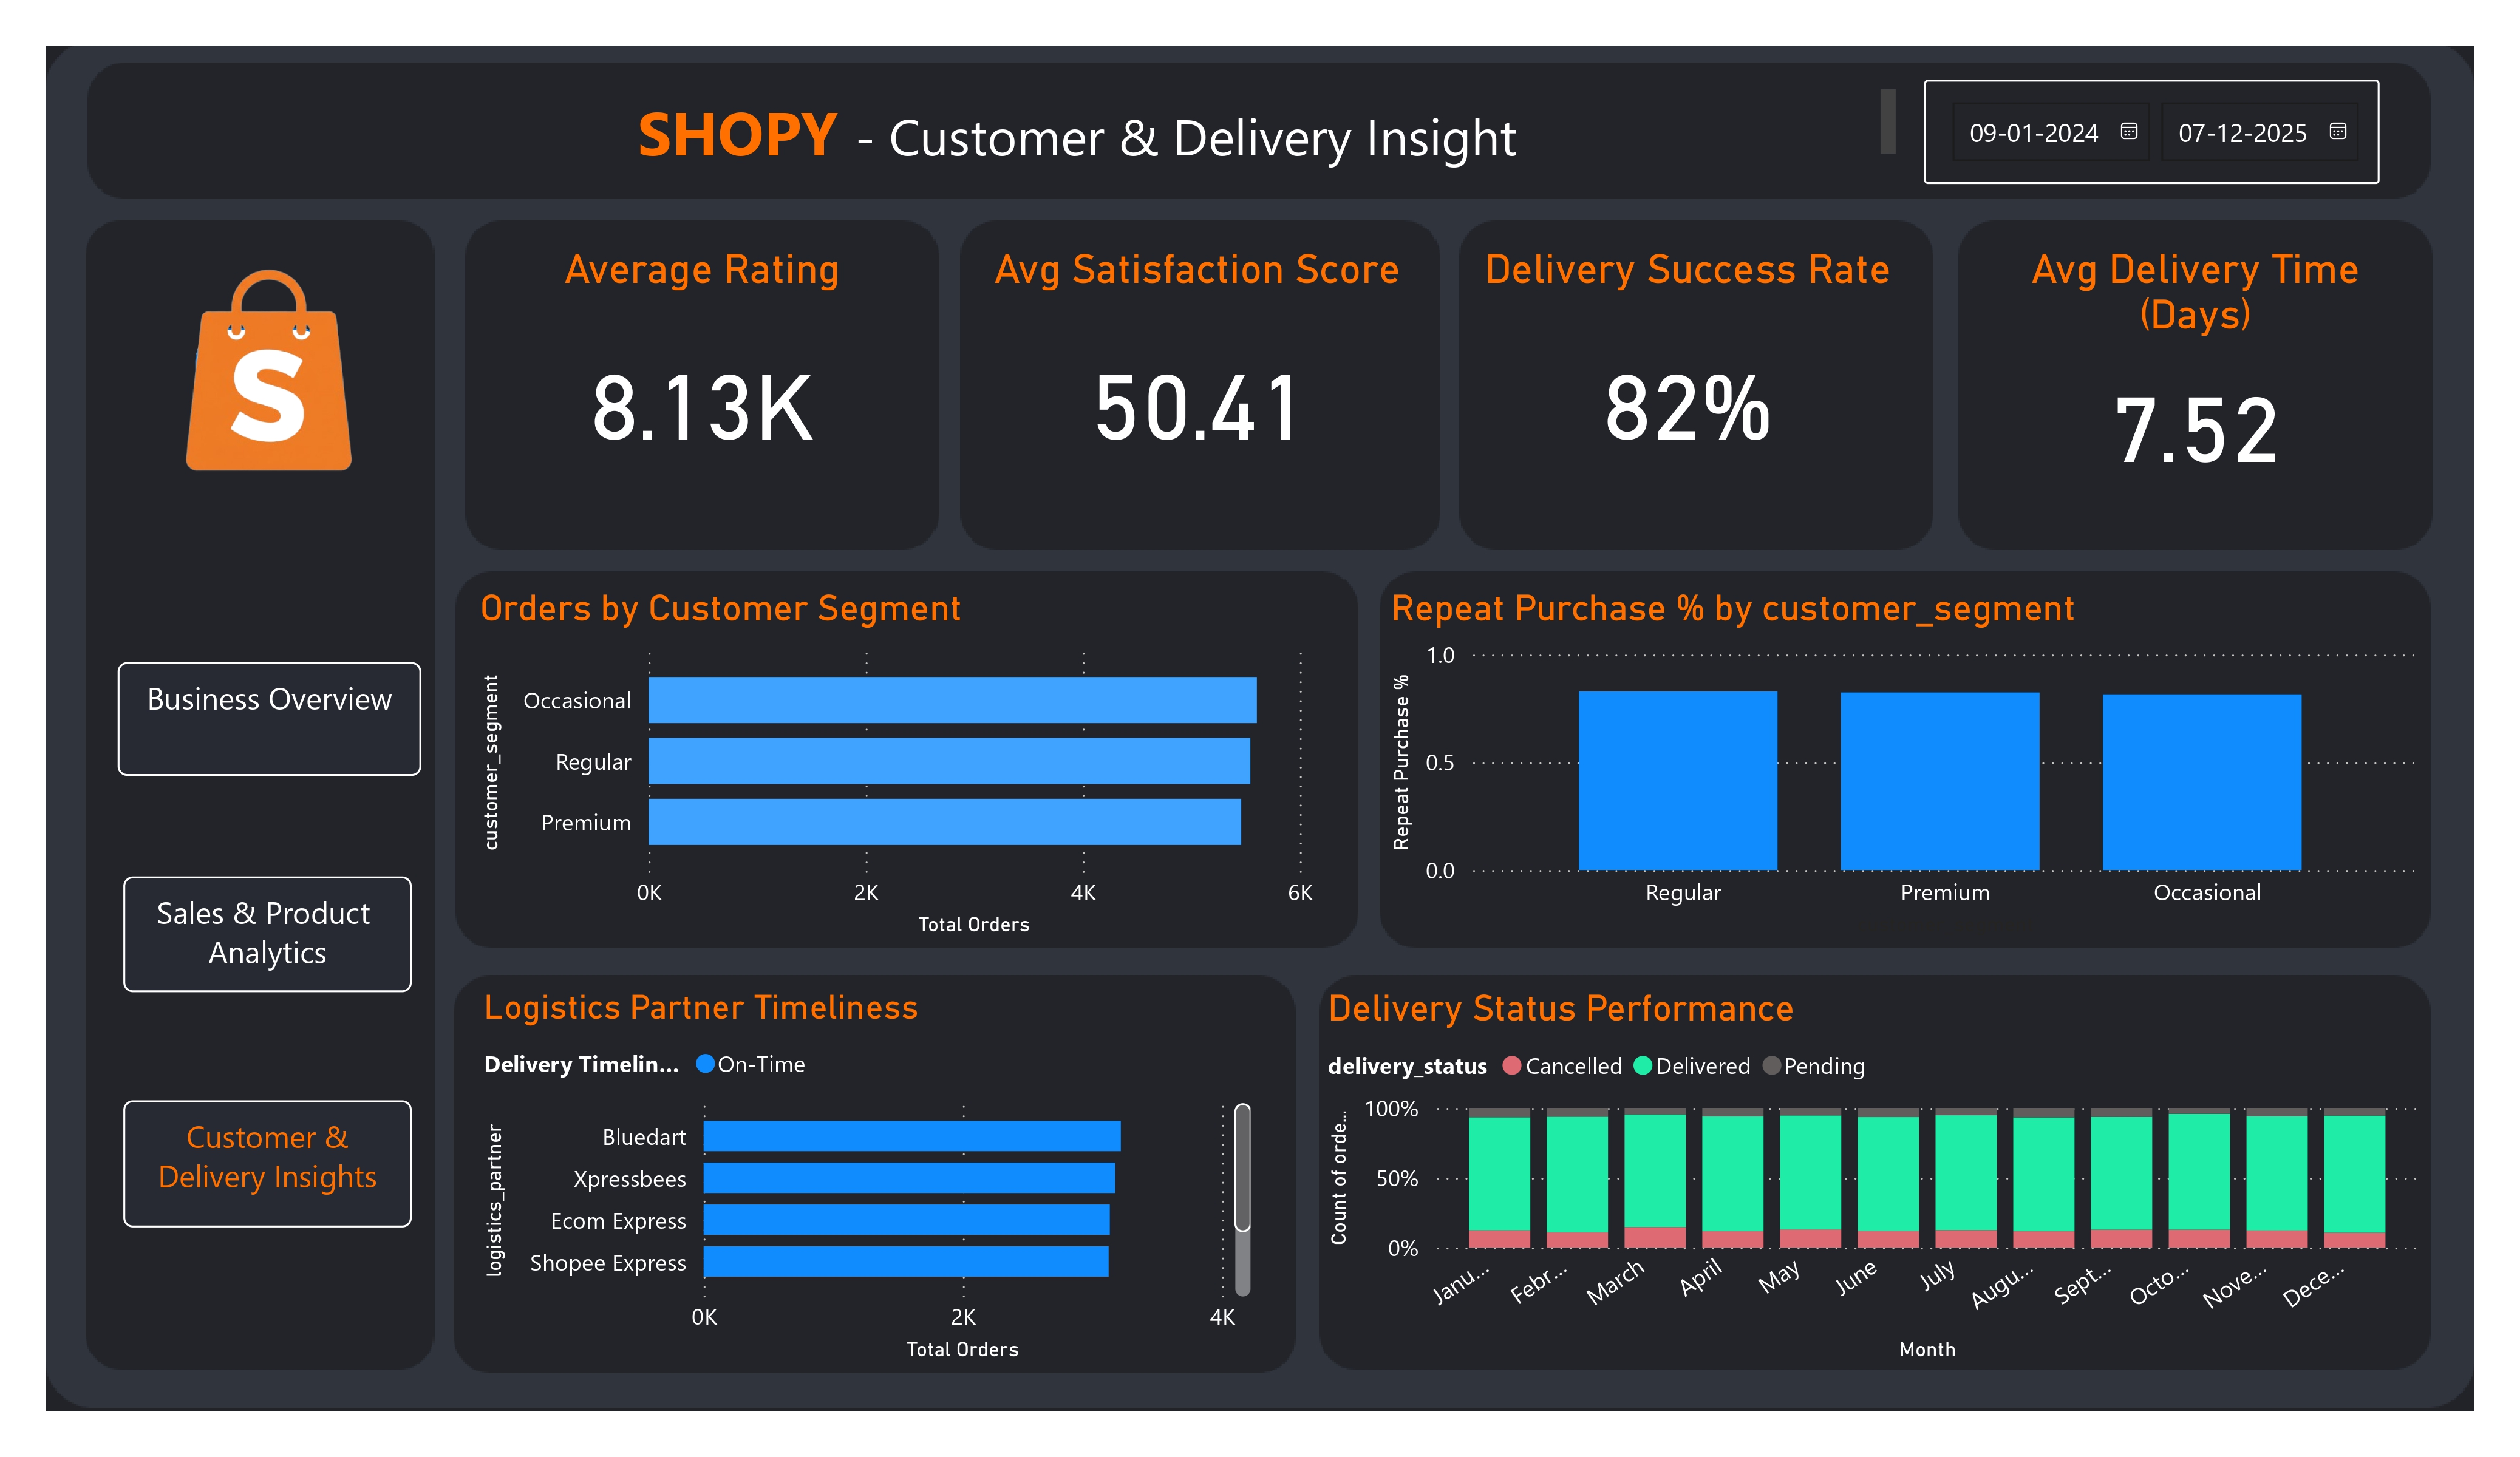

The dashboard page shown, as its layout file describes it:
{"tool":"powerbi","page":{"name":"Customer & Delivery Insights","canvas":[1280,720],"ordinal":2},"visuals":[{"type":"clusteredBarChart","title":"Orders by Customer Segment","fields":{"Category":["Shopy_Master_Cleaned_Cleaned_Final.customer_segment"],"Y":["Shopy_Master_Cleaned_Cleaned_Final.Total Orders"]},"box":[223.8,285,448.8,188.8],"z":0},{"type":"hundredPercentStackedColumnChart","title":"Delivery Status Performance","fields":{"Category":["Shopy_Master_Cleaned_Cleaned_Final.order_date.Variation.Date Hierarchy.Month"],"Y":["CountNonNull(Shopy_Master_Cleaned_Cleaned_Final.order_id)"],"Series":["Shopy_Master_Cleaned_Cleaned_Final.delivery_status"]},"box":[671.2,496.2,583.8,201.2],"z":1000},{"type":"clusteredBarChart","title":"Logistics Partner Timeliness","fields":{"Category":["Shopy_Master_Cleaned_Cleaned_Final.logistics_partner"],"Y":["Shopy_Master_Cleaned_Cleaned_Final.Total Orders"],"Series":["Shopy_Master_Cleaned_Cleaned_Final.Delivery Timeliness"]},"box":[226.2,496.2,413.8,201.2],"z":2000},{"type":"clusteredColumnChart","fields":{"Category":["Shopy_Master_Cleaned_Cleaned_Final.customer_segment"],"Y":["Shopy_Master_Cleaned_Cleaned_Final.Repeat Purchase %"]},"box":[703.8,285,551.2,188.8],"z":3000},{"type":"card","title":"Delivery Success Rate","fields":{"Values":["Shopy_Master_Cleaned_Cleaned_Final.Delivery Success %"]},"box":[741.2,105,248.8,136.2],"z":4000},{"type":"card","title":"Avg Satisfaction Score","fields":{"Values":["Shopy_Master_Cleaned_Cleaned_Final.Avg Satisfaction Score"]},"box":[482.5,105,248.8,136.2],"z":5000},{"type":"card","title":"Average Rating","fields":{"Values":["Shopy_Master_Cleaned_Cleaned_Final.Average Order Value"]},"box":[223.8,105,243.8,136.2],"z":6000},{"type":"card","title":"Avg Delivery Time (Days)","fields":{"Values":["Shopy_Master_Cleaned_Cleaned_Final.Avg Delivery Time"]},"box":[1011.2,105,243.8,136.2],"z":7000},{"type":"textbox","box":[36.2,17.5,943.8,55],"z":8000},{"type":"shape","box":[78.8,148.8,72.5,70],"z":9000},{"type":"slicer","title":"Date Range","fields":{"Values":["Shopy_Master_Cleaned_Cleaned_Final.order_date"]},"box":[990,17.5,240,55],"z":10000},{"type":"image","box":[53.8,106.2,136.2,135],"z":11000},{"type":"textbox","box":[41.2,437.5,151.2,61.2],"z":12000},{"type":"textbox","box":[41.2,556.2,151.2,66.2],"z":13000},{"type":"textbox","box":[38,325,159.8,71.7],"z":14000},{"type":"actionButton","box":[41.3,438,151.1,60.9],"z":15000},{"type":"actionButton","box":[36,324.4,161.6,72.1],"z":15001},{"type":"actionButton","box":[40.7,555.8,151.2,66.3],"z":15002}]}

Visuals, with their boxes on the page's 1280x720 design canvas (x1, y1, x2, y2). These are canvas units, not pixel positions in the 2520x1457 screenshot, which may show the page scaled, cropped or inside an application window:
"Orders by Customer Segment" clusteredBarChart: bbox(224, 285, 673, 474)
"Delivery Status Performance" hundredPercentStackedColumnChart: bbox(671, 496, 1255, 697)
"Logistics Partner Timeliness" clusteredBarChart: bbox(226, 496, 640, 697)
clusteredColumnChart - Shopy_Master_Cleaned_Cleaned_Final.customer_segment x Shopy_Master_Cleaned_Cleaned_Final.Repeat Purchase %: bbox(704, 285, 1255, 474)
"Delivery Success Rate" card: bbox(741, 105, 990, 241)
"Avg Satisfaction Score" card: bbox(482, 105, 731, 241)
"Average Rating" card: bbox(224, 105, 468, 241)
"Avg Delivery Time (Days)" card: bbox(1011, 105, 1255, 241)
textbox: bbox(36, 18, 980, 72)
shape: bbox(79, 149, 151, 219)
"Date Range" slicer: bbox(990, 18, 1230, 72)
image: bbox(54, 106, 190, 241)
textbox: bbox(41, 438, 192, 499)
textbox: bbox(41, 556, 192, 622)
textbox: bbox(38, 325, 198, 397)
actionButton: bbox(41, 438, 192, 499)
actionButton: bbox(36, 324, 198, 396)
actionButton: bbox(41, 556, 192, 622)
